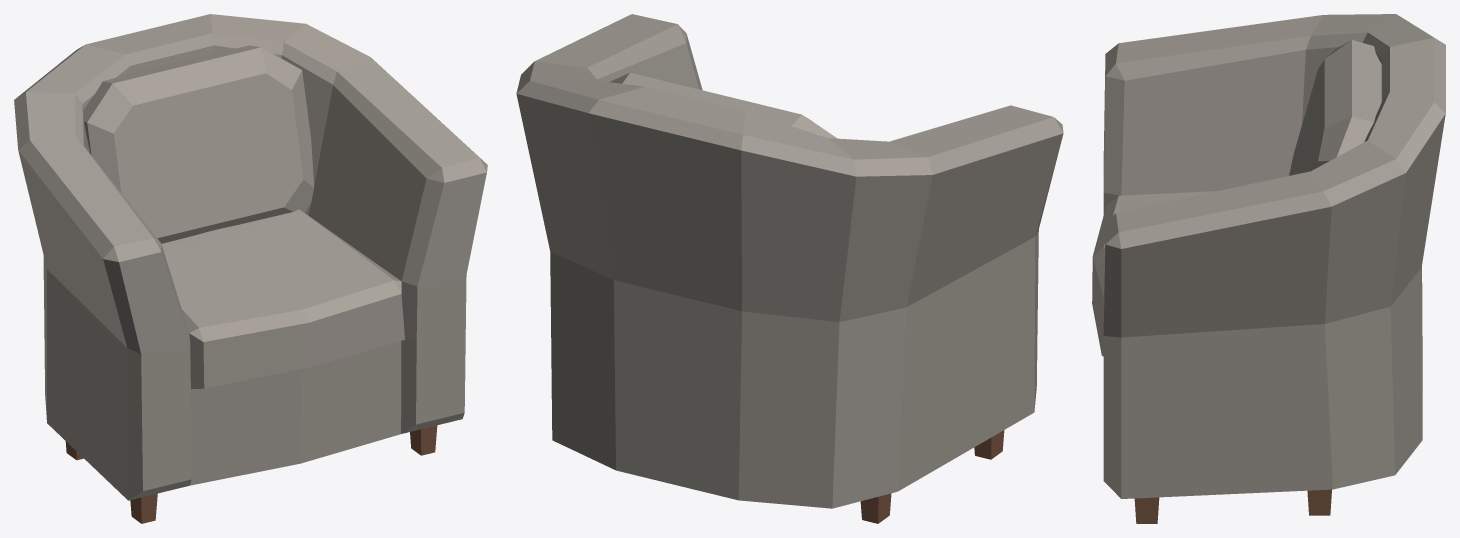
File: SM_Prop_Couch_07.fbx
3 renders of one model, left to right at view 1: azimuth 30°, elevation 25°; view 2: azimuth 150°, elevation 25°; view 3: azimuth 270°, elevation 25°, orthographic. The views are drawn at different scales.
Visible parts, largest first — view 1: SM_Prop_Couch_07; view 2: SM_Prop_Couch_07; view 3: SM_Prop_Couch_07.
Boxes of the visible parts, bbox=[...] form: SM_Prop_Couch_07: bbox=[14, 14, 487, 523]; SM_Prop_Couch_07: bbox=[516, 14, 1063, 523]; SM_Prop_Couch_07: bbox=[1092, 14, 1445, 523].
Size of the model in its own units: 110 by 97.67 by 82.69.
